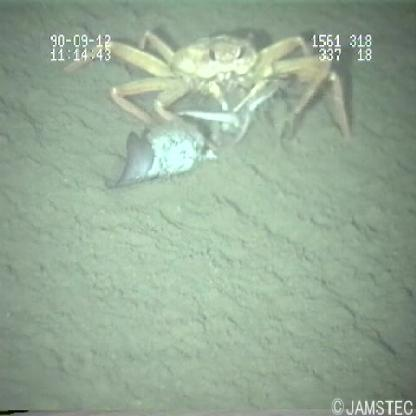Bio: (60, 23, 361, 197)
